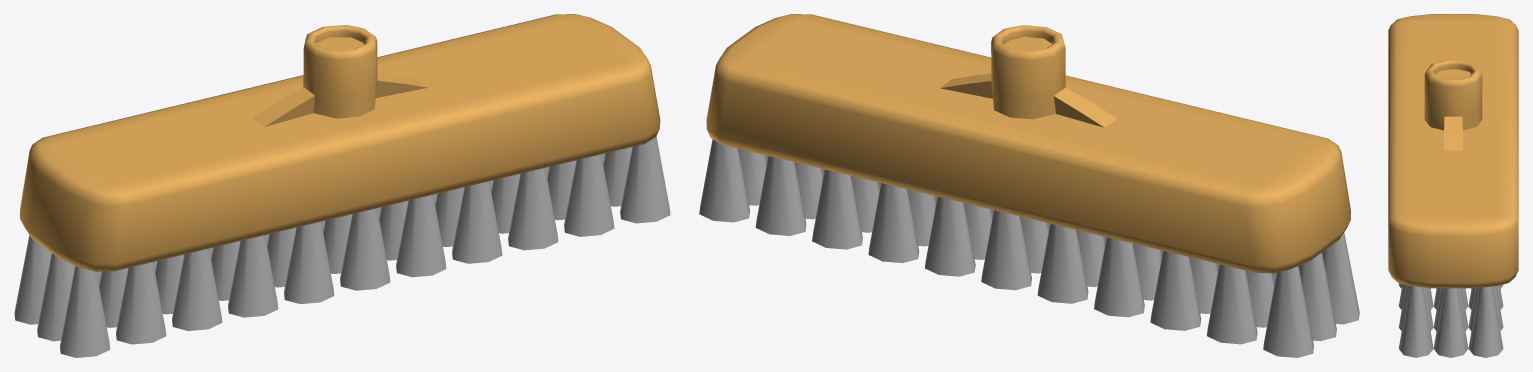
File: Escoba.fbx
3 views of the same model, side by side, from view 1: azimuth 30°, elevation 25°; view 2: azimuth 150°, elevation 25°; view 3: azimuth 270°, elevation 25° (orthographic). The views are drawn at different scales.
Parts seen in each view (by area): view 1: ESCOBA; view 2: ESCOBA; view 3: ESCOBA.
Boxes of the visible parts, <box> form: ESCOBA: <box>14,14,670,357</box>; ESCOBA: <box>699,14,1359,357</box>; ESCOBA: <box>1388,14,1518,357</box>.
Size of the model in its own units: 27.01 by 9.58 by 6.52.
